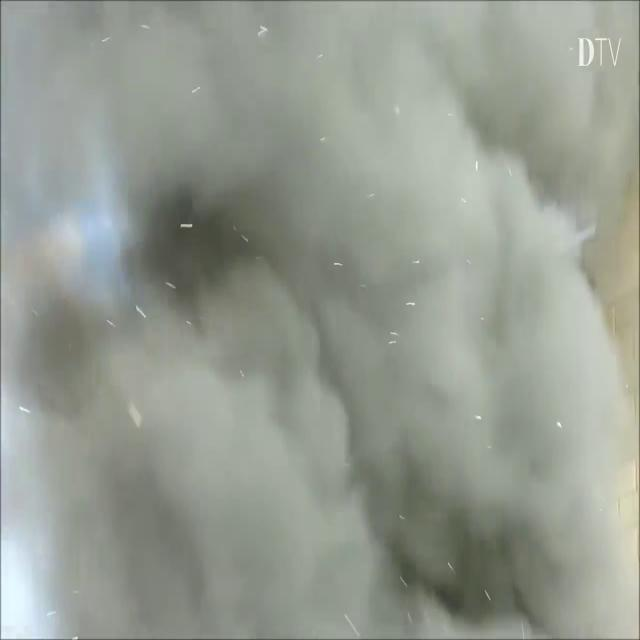Smoke: (2, 1, 638, 639)
